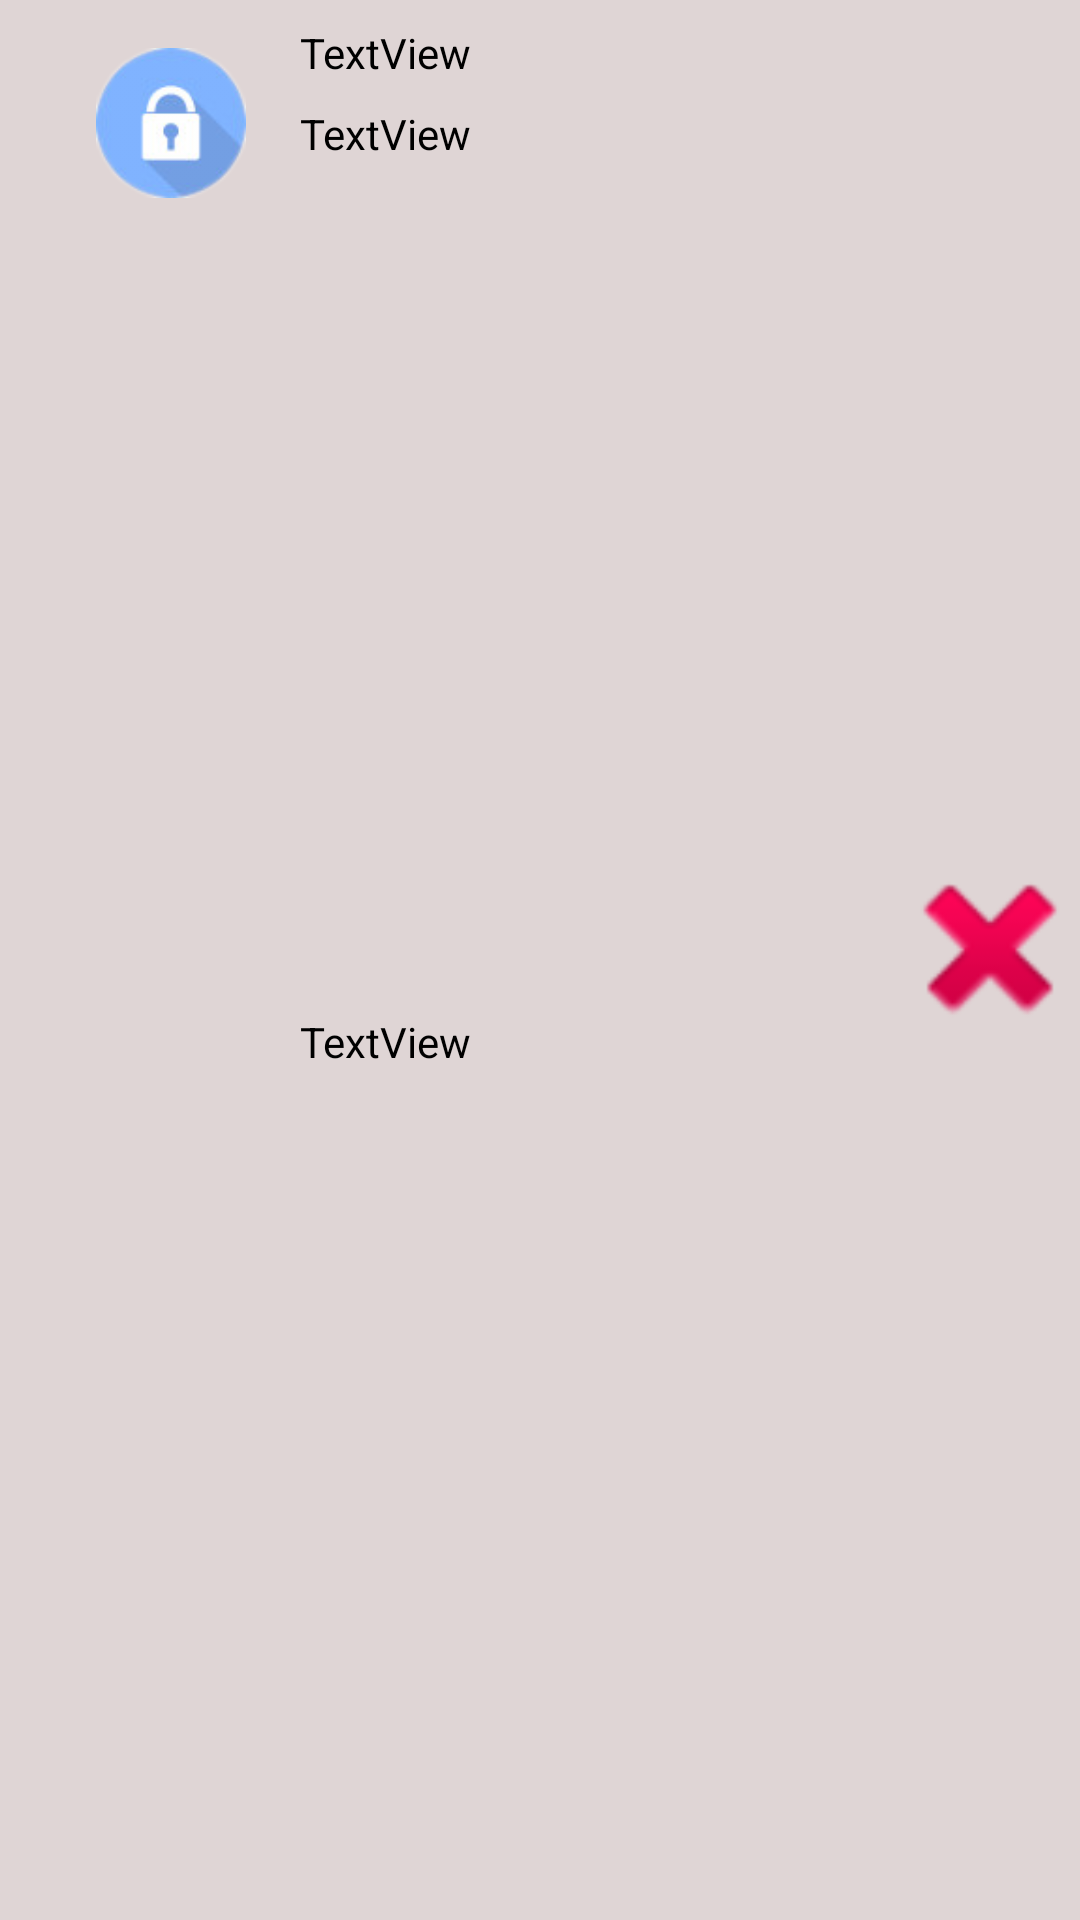

Point at icon controls on the screen. Image size 1080*1920, points as [x,y].
delete: [990,948]
